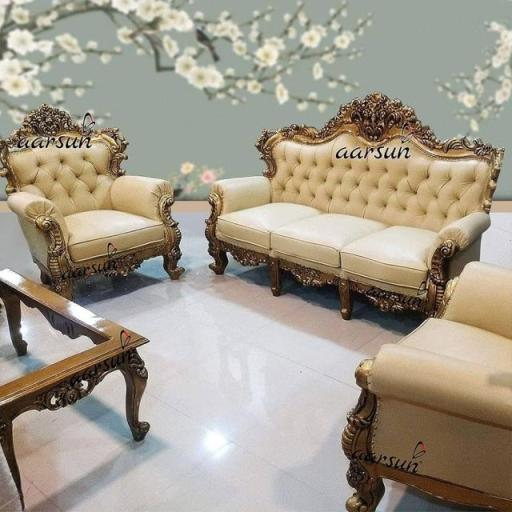sofa: (206, 72, 478, 305), (10, 102, 194, 318), (356, 286, 512, 512)
